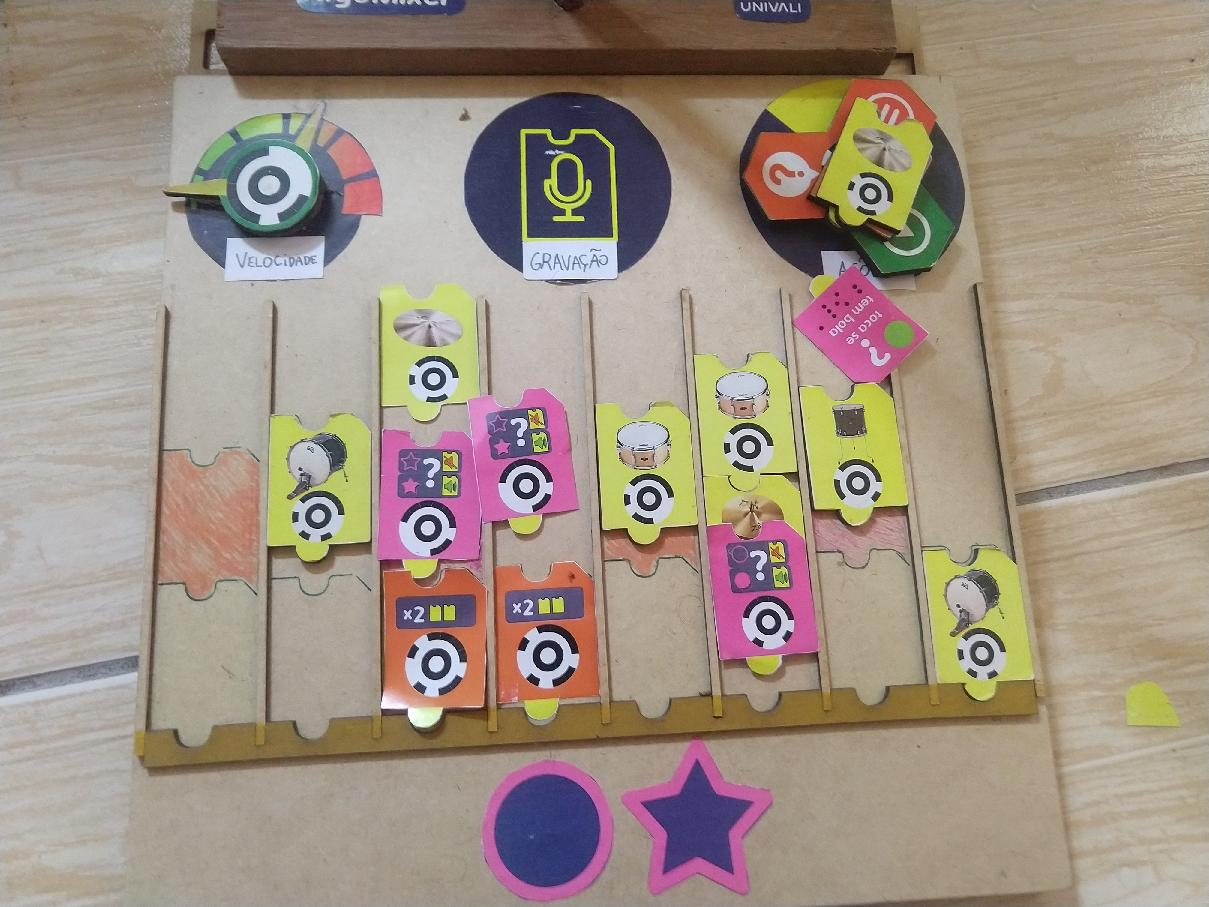bumbo: (919, 544, 1037, 699), (266, 413, 375, 561)
